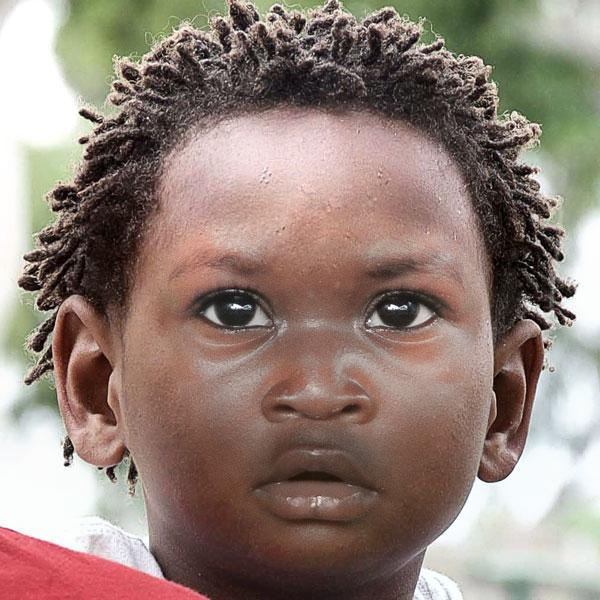Eyes: (352, 275, 458, 353), (180, 272, 282, 351)
